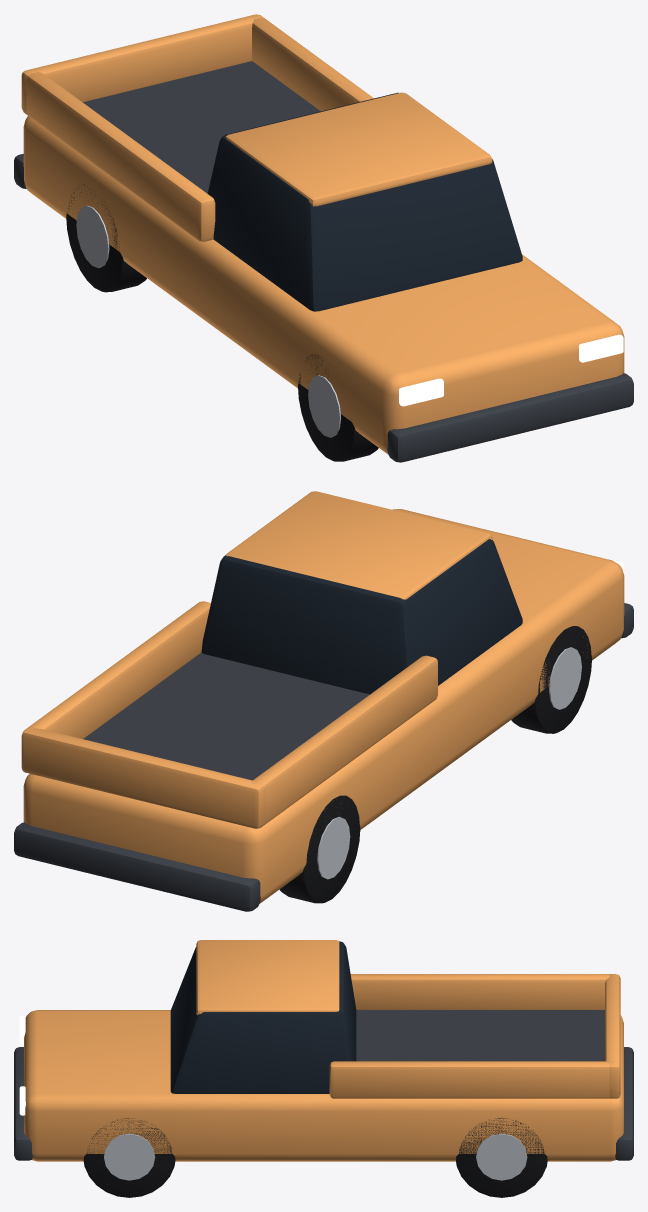
The model's file is trafficPickup.c74e3aef.glb.
3 renders of one model, top to bottom at view 1: azimuth 30°, elevation 25°; view 2: azimuth 150°, elevation 25°; view 3: azimuth 270°, elevation 25°, orthographic. The views are drawn at different scales.
Parts seen in each view (by area): view 1: pickup; view 2: pickup; view 3: pickup.
Part boxes in pixels (left/top/right/bottom): pickup: left=14, top=14, right=633, bottom=462; pickup: left=14, top=491, right=633, bottom=911; pickup: left=14, top=940, right=633, bottom=1197.
Size of the model in its own units: 2.02 by 1.77 by 5.58.
